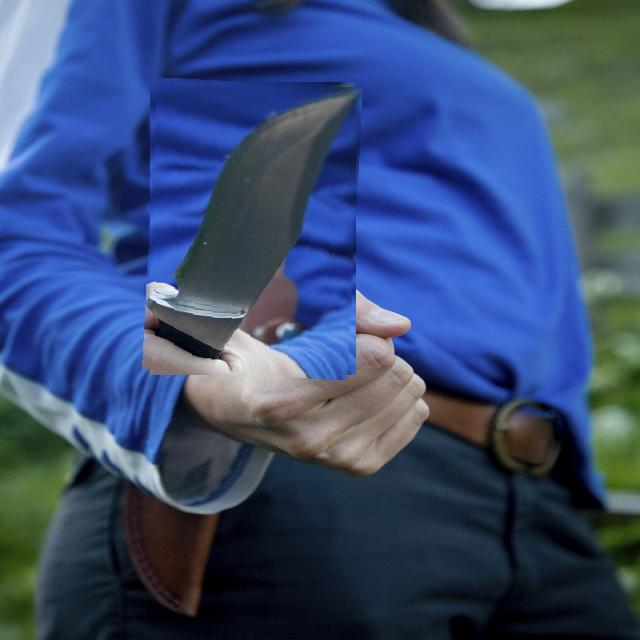knife: (146, 79, 360, 378)
